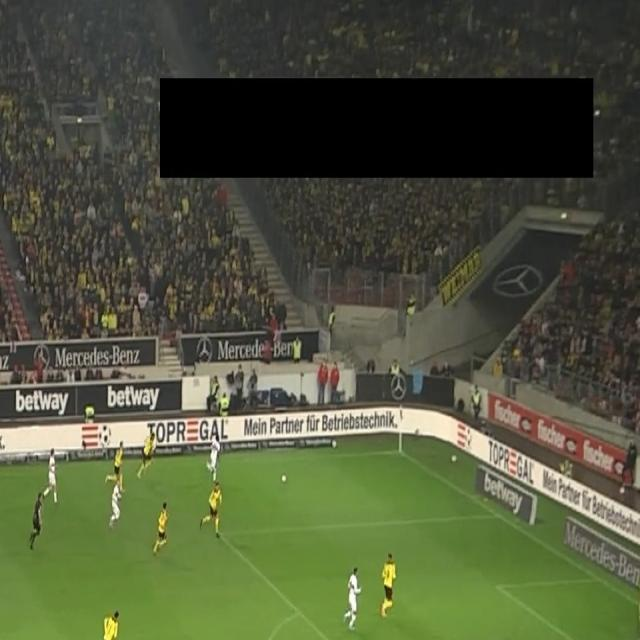ball: (282, 472, 288, 485)
